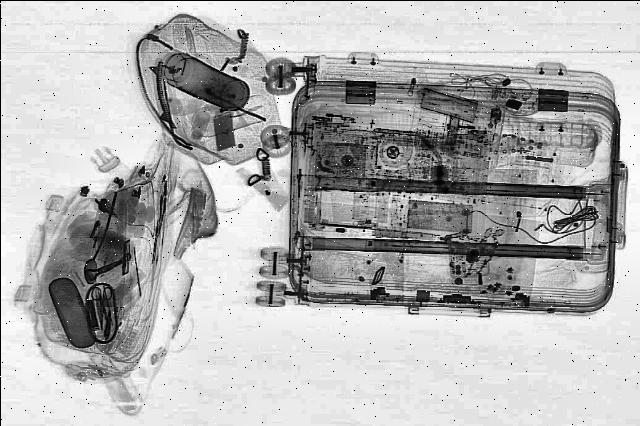Scissors: (90, 284, 118, 336)
